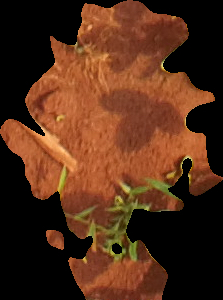soil: (2, 2, 223, 297)
